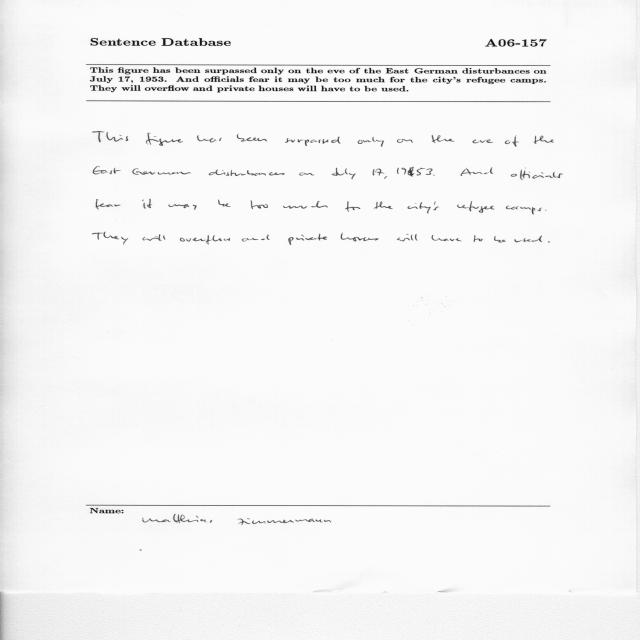word: (511, 168, 563, 180), (209, 169, 285, 176), (285, 137, 341, 146), (180, 235, 230, 245), (146, 133, 183, 146), (93, 232, 129, 245), (288, 233, 327, 245), (457, 201, 495, 213), (132, 168, 191, 175), (93, 132, 129, 143), (408, 202, 440, 214), (341, 233, 378, 242), (402, 167, 435, 177), (283, 201, 328, 208), (506, 206, 542, 214), (96, 199, 121, 210), (357, 137, 384, 147), (332, 168, 356, 179), (237, 134, 267, 142), (93, 166, 121, 174), (242, 235, 270, 242), (466, 168, 493, 175), (432, 135, 455, 143), (432, 235, 462, 241), (197, 135, 222, 142), (169, 204, 197, 210), (514, 236, 542, 242), (346, 201, 361, 212), (250, 200, 268, 209), (142, 234, 165, 241), (534, 136, 554, 144), (505, 136, 519, 147), (373, 168, 387, 179), (461, 169, 483, 176), (397, 234, 417, 241), (374, 202, 393, 209), (218, 200, 231, 207), (143, 199, 153, 208), (473, 140, 494, 144), (494, 236, 506, 242), (473, 235, 483, 242), (397, 139, 413, 143), (300, 173, 315, 176), (397, 168, 399, 174), (548, 241, 550, 243), (545, 210, 546, 210)
